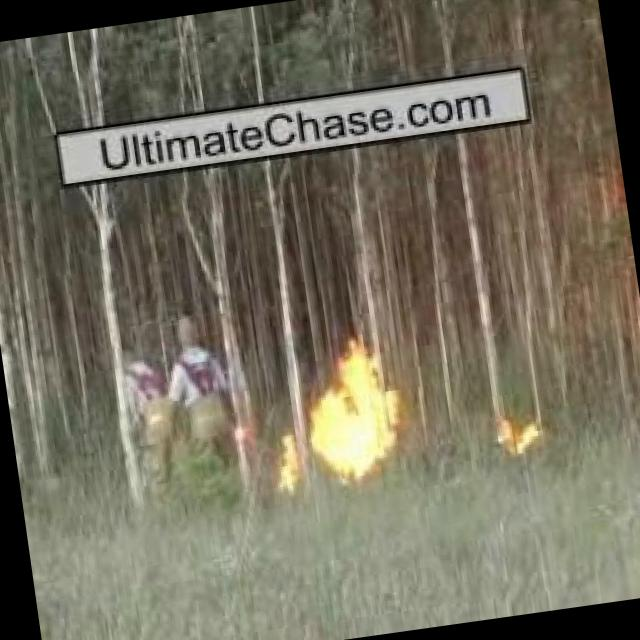Fire: (294, 328, 418, 490), (299, 346, 411, 484), (264, 424, 308, 502), (489, 406, 545, 462), (497, 416, 540, 459), (272, 439, 306, 492)
